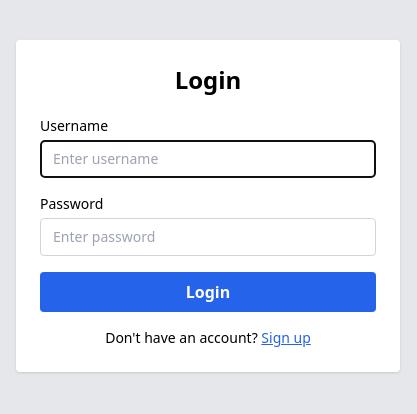
LoginPage Integration › validates required fields
The image size is (417, 414).
Step 1. Click the button "Login" → [208, 292], box [40, 272, 376, 312]
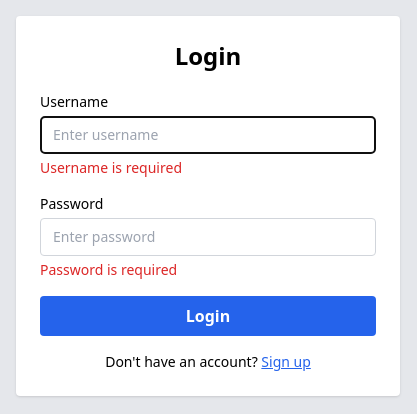
Expected: the text "Username is required" is shown, [40, 158, 182, 177]
Expected: the text "Password is required" is shown, [40, 260, 177, 279]
